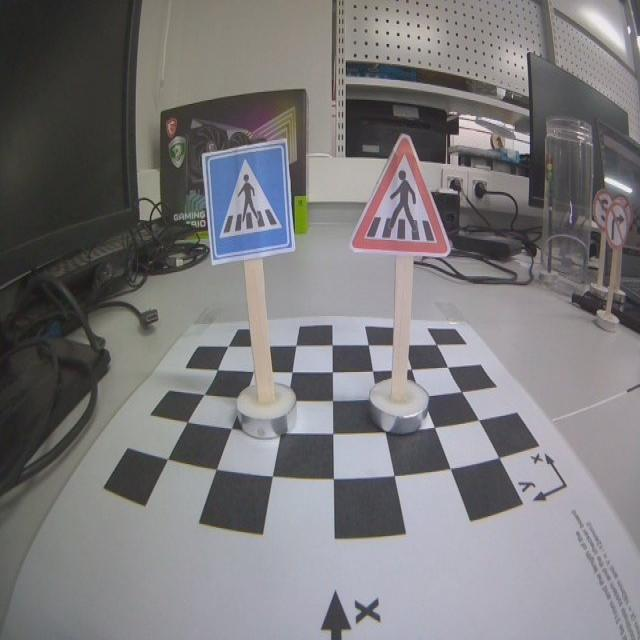Rambu Penyebrangan: (204, 140, 293, 261), (351, 140, 448, 251)
